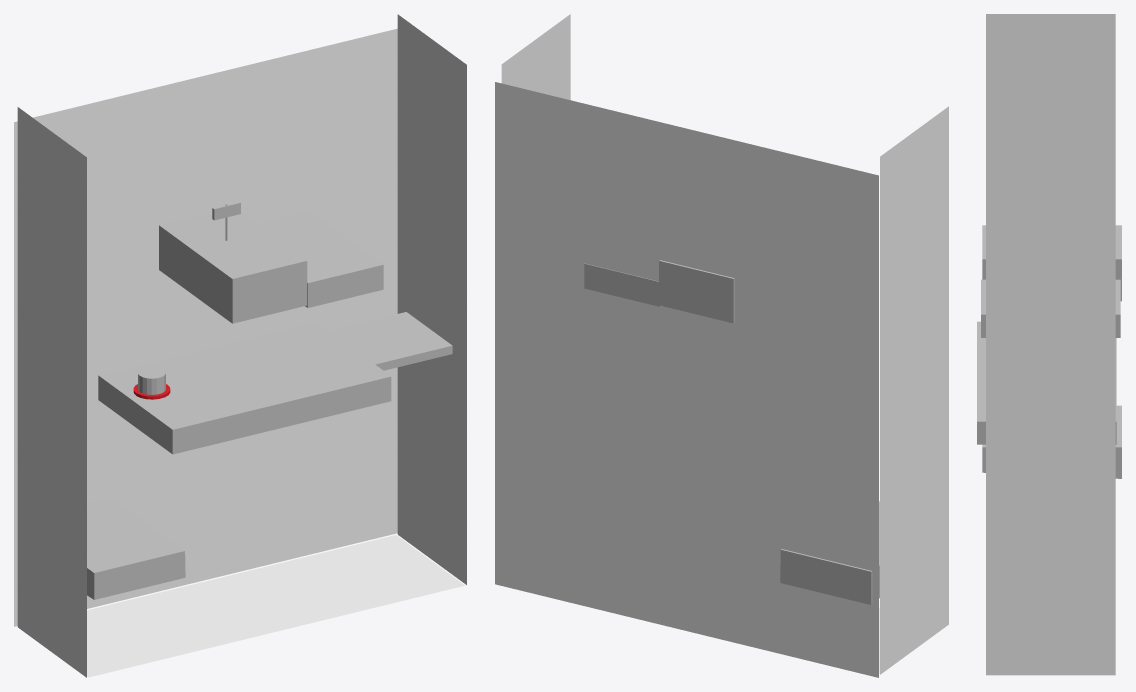
File: stage.FBX
3 renders of one model, left to right at view 1: azimuth 30°, elevation 25°; view 2: azimuth 150°, elevation 25°; view 3: azimuth 270°, elevation 25°, orthographic. The views are drawn at different scales.
Visible parts, largest first — view 1: Plane004, Plane002, Plane003, Plane001, Box003, Box004, Box001, Box005, moveFloor, Gimmick_Button; view 2: Plane004, Plane002, Plane003, Box004, Box001, Box005; view 3: Plane003, Plane002, Box003, Box004, Box005, Box001.
Part boxes in pixels (x1,y1,x2,y2): Plane004: [14, 28, 397, 626]; Plane002: [17, 107, 86, 677]; Plane003: [397, 14, 466, 584]; Plane001: [87, 535, 464, 677]; Box003: [98, 322, 391, 454]; Box004: [159, 212, 307, 323]; Box001: [87, 497, 185, 599]; Box005: [256, 210, 383, 307]; moveFloor: [329, 312, 452, 370]; Gimmick_Button: [133, 366, 170, 399]; Plane004: [495, 82, 878, 677]; Plane002: [880, 106, 948, 674]; Plane003: [501, 14, 570, 99]; Box004: [659, 260, 734, 323]; Box001: [780, 501, 879, 604]; Box005: [584, 263, 660, 306]; Plane003: [986, 187, 1115, 675]; Plane002: [986, 14, 1115, 187]; Box003: [977, 321, 1116, 444]; Box004: [982, 225, 1121, 301]; Box005: [981, 279, 1120, 337]; Box001: [982, 405, 1121, 478].
Size of the model in its own units: 963 by 334 by 1246.
